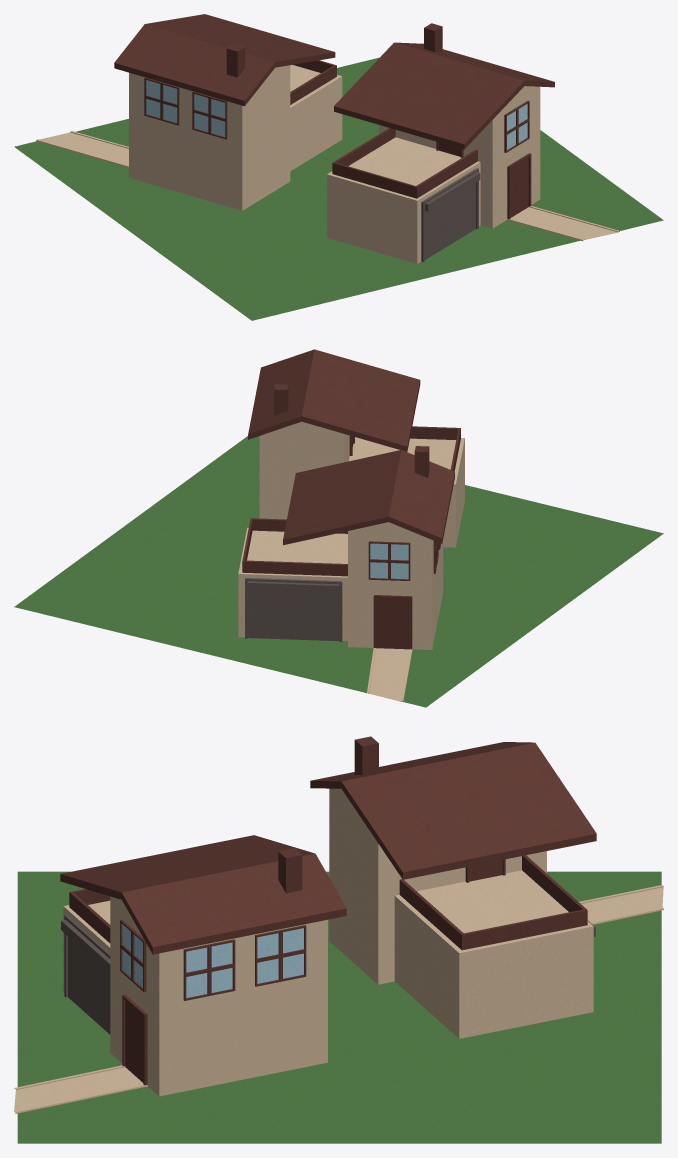
File: house5.obj
3 views of the same model, one above another, from view 1: azimuth 30°, elevation 25°; view 2: azimuth 150°, elevation 25°; view 3: azimuth 270°, elevation 25° (orthographic). The views are drawn at different scales.
Parts seen in each view (by area): view 1: House.001_Plane.001_House.001_Plane.005, House.001_Plane.004, Plane.008_Plane.001, Plane.009_Plane.001, Plane.002_Plane.004, Plane.007_Plane.002, Cube.006_Cube.068, Cube.007_Cube.069, Cube.008_Cube.070; view 2: House.001_Plane.004, House.001_Plane.001_House.001_Plane.005, Plane.007_Plane.002, Plane.008_Plane.001, Plane.002_Plane.004, Plane.009_Plane.001, Cube.004_Cube.067; view 3: House.001_Plane.004, House.001_Plane.001_House.001_Plane.005, Plane.007_Plane.002, Plane.009_Plane.001, Plane.002_Plane.004, Plane.008_Plane.001, Cube.009_Cube.071, Cube.010_Cube.072, Cube.008_Cube.070.
Boxes of the visible parts, x1,y1,x2,y2 form: House.001_Plane.001_House.001_Plane.005: (327,23,619,263); House.001_Plane.004: (36,14,342,210); Plane.008_Plane.001: (133,186,457,320); Plane.009_Plane.001: (435,133,663,270); Plane.002_Plane.004: (14,119,326,233); Plane.007_Plane.002: (308,57,544,174); Cube.006_Cube.068: (144,77,179,125); Cube.007_Cube.069: (192,91,227,139); Cube.008_Cube.070: (504,100,529,152); House.001_Plane.004: (238,446,454,701); House.001_Plane.001_House.001_Plane.005: (248,349,464,547); Plane.007_Plane.002: (14,520,244,657); Plane.008_Plane.001: (442,485,663,620); Plane.002_Plane.004: (220,595,544,707); Plane.009_Plane.001: (133,436,259,546); Cube.004_Cube.067: (368,541,410,580); House.001_Plane.004: (310,736,663,1038); House.001_Plane.001_House.001_Plane.005: (14,835,346,1113); Plane.007_Plane.002: (339,1007,661,1143); Plane.009_Plane.001: (17,1007,339,1143); Plane.002_Plane.004: (339,871,661,1007); Plane.008_Plane.001: (17,871,339,1007); Cube.009_Cube.071: (183,939,235,1000); Cube.010_Cube.072: (255,925,306,986); Cube.008_Cube.070: (120,919,146,991).
Size of the model in its own units: 40 by 14.25 by 40.38.
